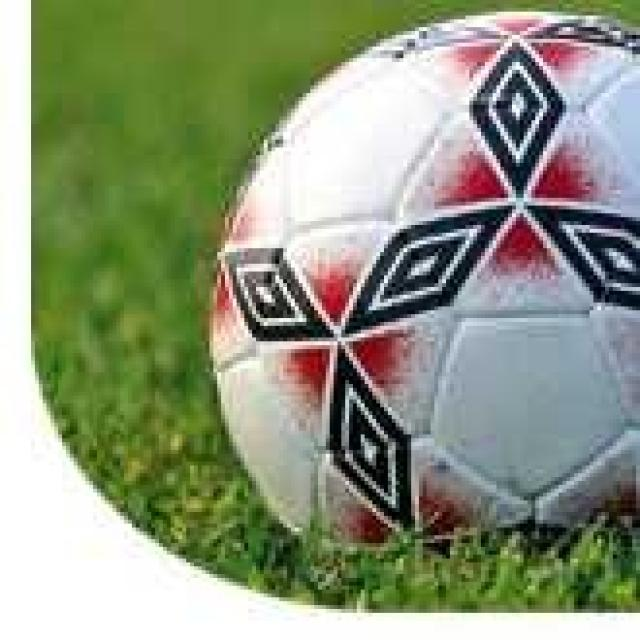ball: (209, 9, 640, 556)
